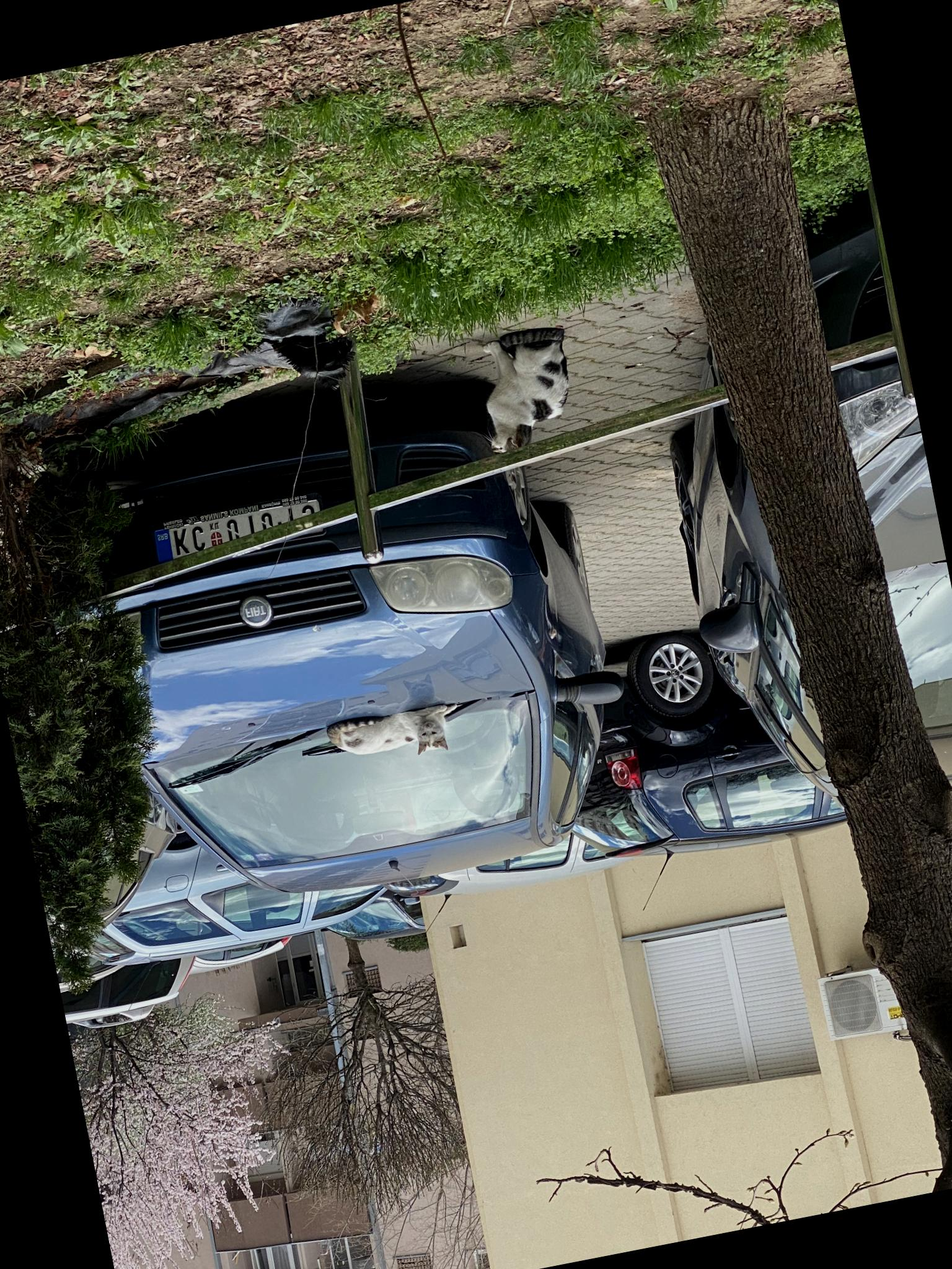macka: (471, 324, 587, 455), (325, 700, 467, 773)
